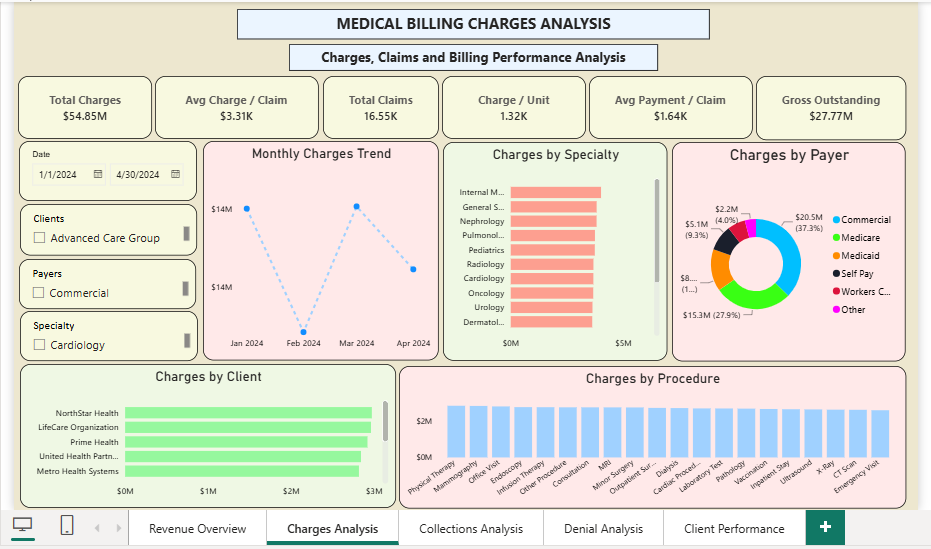

The page's visual inventory and layout, read from the dashboard file:
{"tool":"powerbi","page":{"name":"Charges Analysis","canvas":[1280,720],"ordinal":1},"visuals":[{"type":"slicer","fields":{"Values":["Dim_Specialty.Specialty"]},"box":[8.6,437.8,252,70.6],"z":0},{"type":"textbox","box":[316.1,9.9,670.4,42.5],"z":1000},{"type":"textbox","box":[389.8,59.5,523,38.3],"z":2000},{"type":"cardVisual","fields":{"Data":["_Measures.Total Charges"]},"box":[5.8,105.1,190.1,89.3],"z":3000},{"type":"cardVisual","fields":{"Data":["_Measures.Average Charge per Claim"]},"box":[200.2,105.1,231.8,89.3],"z":4000},{"type":"cardVisual","fields":{"Data":["_Measures.Total Claims"]},"box":[437.8,105.1,164.2,89.3],"z":5000},{"type":"cardVisual","fields":{"Data":["_Measures.Average Payment per Claim"]},"box":[815,105.1,231.8,89.3],"z":6000},{"type":"cardVisual","fields":{"Data":["_Measures.Gross Outstanding"]},"box":[1051.2,105.1,213.1,90.7],"z":7000},{"type":"slicer","fields":{"Values":["Dim_Date.Year_Month"]},"box":[7.2,197.3,252,85],"z":8000},{"type":"slicer","fields":{"Values":["Dim_Client.Client_Name"]},"box":[8.6,286.6,250.6,73.4],"z":9000},{"type":"slicer","fields":{"Values":["Dim_Payer.Payer_Type"]},"box":[7.2,364.3,250.6,70.6],"z":10000},{"type":"lineChart","title":"Monthly Charges Trend","fields":{"Category":["Dim_Date.Year_Month"],"Y":["_Measures.Total Charges"]},"box":[267.8,197.3,334.1,311],"z":11000},{"type":"clusteredBarChart","title":"Charges by Client","fields":{"Category":["Dim_Client.Client_Name"],"Y":["_Measures.Total Charges"]},"box":[8.6,512.6,532.8,204.5],"z":12000},{"type":"donutChart","title":"Charges by Payer","fields":{"Category":["Dim_Payer.Payer_Type"],"Y":["_Measures.Total Charges"]},"box":[933.1,198.7,331.2,311],"z":13000},{"type":"barChart","title":"Charges by Specialty","fields":{"Category":["Dim_Specialty.Specialty"],"Y":["_Measures.Total Charges"]},"box":[607.7,198.7,318.2,309.6],"z":14000},{"type":"columnChart","title":"Charges by Procedure","fields":{"Category":["Dim_Procedure.Procedure_Name"],"Y":["_Measures.Total Charges"]},"box":[545.8,515.5,718.6,201.6],"z":15000},{"type":"cardVisual","fields":{"Data":["_Measures.Charge per Unit"]},"box":[606.2,105.1,204.5,89.3],"z":16000}]}

Visuals, with their boxes on the page's 1280x720 design canvas (x1, y1, x2, y2). These are canvas units, not pixel positions in the 931x549 screenshot, which may show the page scaled, cropped or inside an application window:
slicer - Dim_Specialty.Specialty: locate(9, 438, 261, 508)
textbox: locate(316, 10, 986, 52)
textbox: locate(390, 60, 913, 98)
cardVisual - _Measures.Total Charges: locate(6, 105, 196, 194)
cardVisual - _Measures.Average Charge per Claim: locate(200, 105, 432, 194)
cardVisual - _Measures.Total Claims: locate(438, 105, 602, 194)
cardVisual - _Measures.Average Payment per Claim: locate(815, 105, 1047, 194)
cardVisual - _Measures.Gross Outstanding: locate(1051, 105, 1264, 196)
slicer - Dim_Date.Year_Month: locate(7, 197, 259, 282)
slicer - Dim_Client.Client_Name: locate(9, 287, 259, 360)
slicer - Dim_Payer.Payer_Type: locate(7, 364, 258, 435)
"Monthly Charges Trend" lineChart: locate(268, 197, 602, 508)
"Charges by Client" clusteredBarChart: locate(9, 513, 541, 717)
"Charges by Payer" donutChart: locate(933, 199, 1264, 510)
"Charges by Specialty" barChart: locate(608, 199, 926, 508)
"Charges by Procedure" columnChart: locate(546, 516, 1264, 717)
cardVisual - _Measures.Charge per Unit: locate(606, 105, 811, 194)
